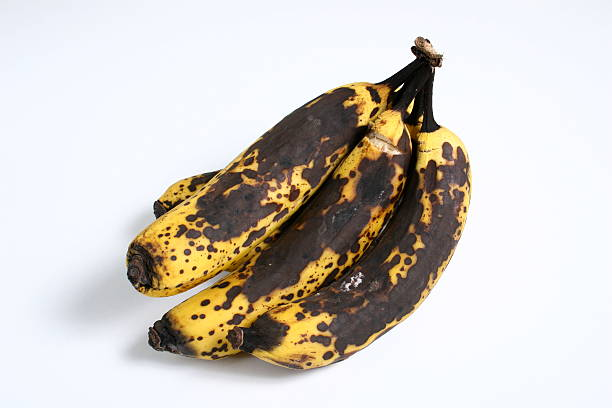rotten_banana: (147, 111, 414, 360), (118, 78, 392, 296), (231, 126, 471, 367)
